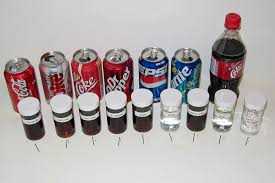can: (4, 51, 37, 108), (170, 42, 205, 92), (72, 52, 101, 98), (38, 53, 66, 95), (137, 54, 165, 92), (105, 50, 129, 84)
